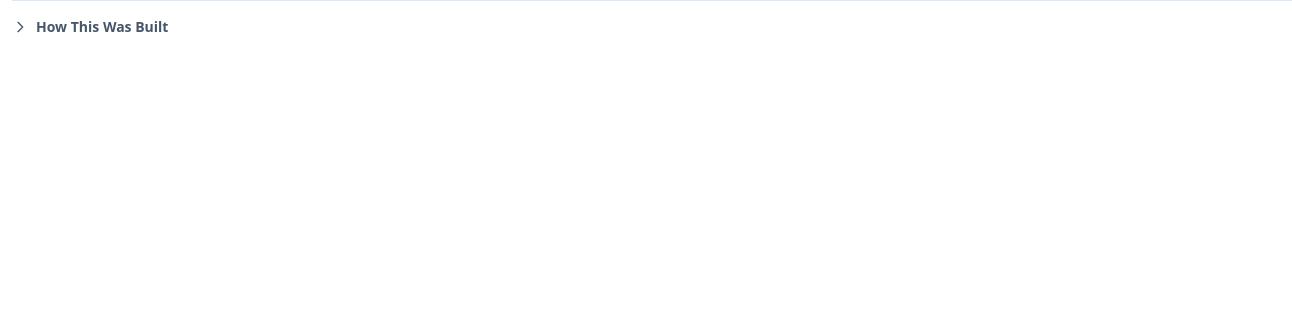
Test: BuildNote › Expanded State - Click to Expand › displays title when expanded
Step 1. Click the button "How This Was Built" → click(90, 27), box top-left (12, 17), bottom-right (168, 37)
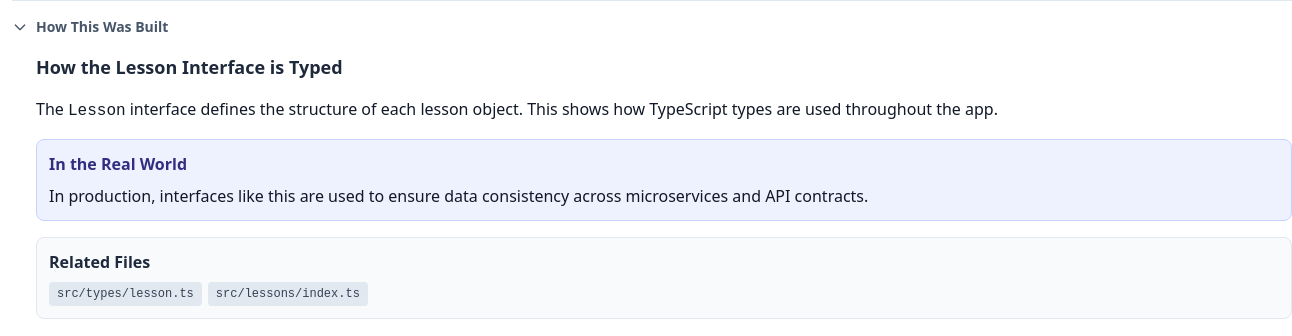
Expected: the heading "How the Lesson Interface is Typed" is shown, top-left (36, 55), bottom-right (343, 79)
